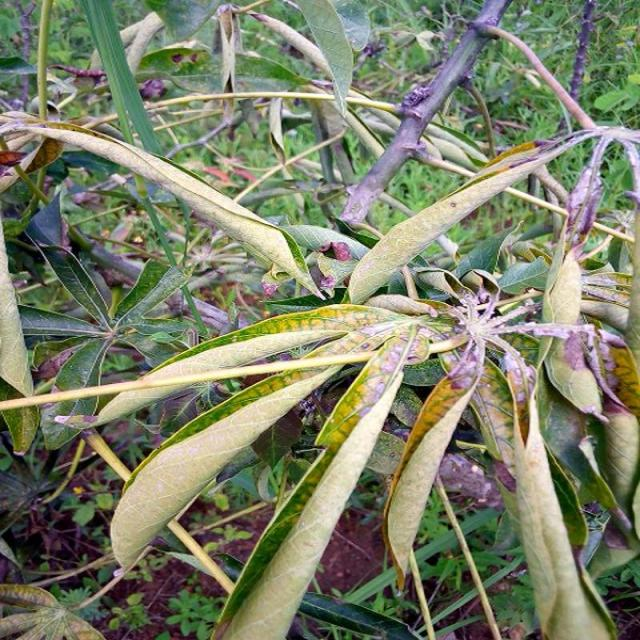cassava leaf: (210, 323, 425, 638)
